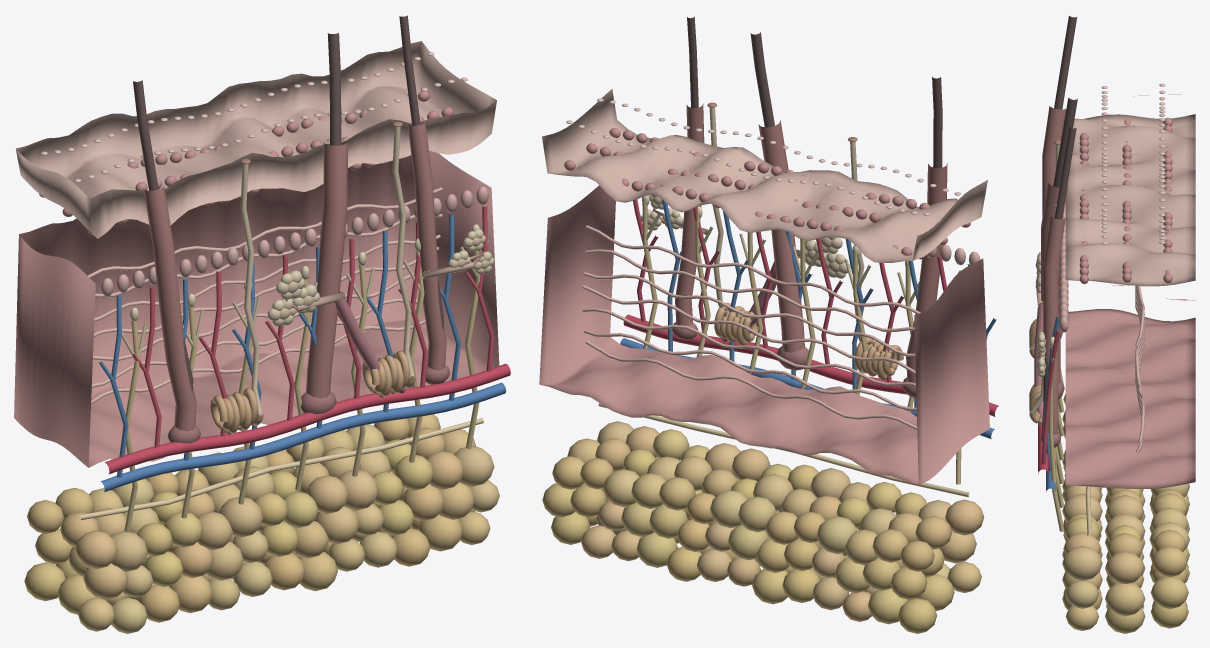
File: integumentary-atlas.glb
3 renders of one model, left to right at view 1: azimuth 30°, elevation 25°; view 2: azimuth 150°, elevation 25°; view 3: azimuth 270°, elevation 25°, orthographic. The views are drawn at different scales.
Visible parts, largest first — view 1: Dermis, Subcutaneous layer, Epidermis, Hair follicle, Blood vessels, Nerves, Sweat gland, Sebaceous gland, Arrector pili; view 2: Subcutaneous layer, Dermis, Epidermis, Hair follicle, Blood vessels, Nerves, Sweat gland, Sebaceous gland; view 3: Dermis, Epidermis, Subcutaneous layer, Hair follicle, Nerves, Blood vessels, Sweat gland, Sebaceous gland, Arrector pili.
Boxes of the visible parts, x1=… form: Dermis: x1=14, y1=150, x2=499, y2=467; Subcutaneous layer: x1=24, y1=414, x2=499, y2=633; Epidermis: x1=16, y1=41, x2=496, y2=238; Hair follicle: x1=133, y1=15, x2=449, y2=443; Blood vessels: x1=98, y1=206, x2=510, y2=492; Nerves: x1=121, y1=224, x2=488, y2=532; Sweat gland: x1=210, y1=121, x2=415, y2=434; Sebaceous gland: x1=267, y1=229, x2=494, y2=326; Arrector pili: x1=335, y1=298, x2=407, y2=393; Subcutaneous layer: x1=542, y1=403, x2=984, y2=633; Dermis: x1=539, y1=185, x2=989, y2=484; Epidermis: x1=542, y1=89, x2=987, y2=262; Hair follicle: x1=671, y1=16, x2=947, y2=397; Blood vessels: x1=620, y1=199, x2=998, y2=439; Nerves: x1=641, y1=195, x2=961, y2=484; Sweat gland: x1=707, y1=102, x2=903, y2=380; Sebaceous gland: x1=641, y1=194, x2=850, y2=278; Dermis: x1=1059, y1=202, x2=1195, y2=488; Epidermis: x1=1065, y1=83, x2=1195, y2=286; Subcutaneous layer: x1=1062, y1=394, x2=1189, y2=633; Hair follicle: x1=1040, y1=16, x2=1077, y2=447; Nerves: x1=1048, y1=336, x2=1064, y2=531; Blood vessels: x1=1038, y1=276, x2=1059, y2=492; Sweat gland: x1=1029, y1=140, x2=1060, y2=424; Sebaceous gland: x1=1035, y1=252, x2=1045, y2=377; Arrector pili: x1=1034, y1=304, x2=1043, y2=423.
Size of the model in its own units: 2.3 by 2.84 by 0.8967.
